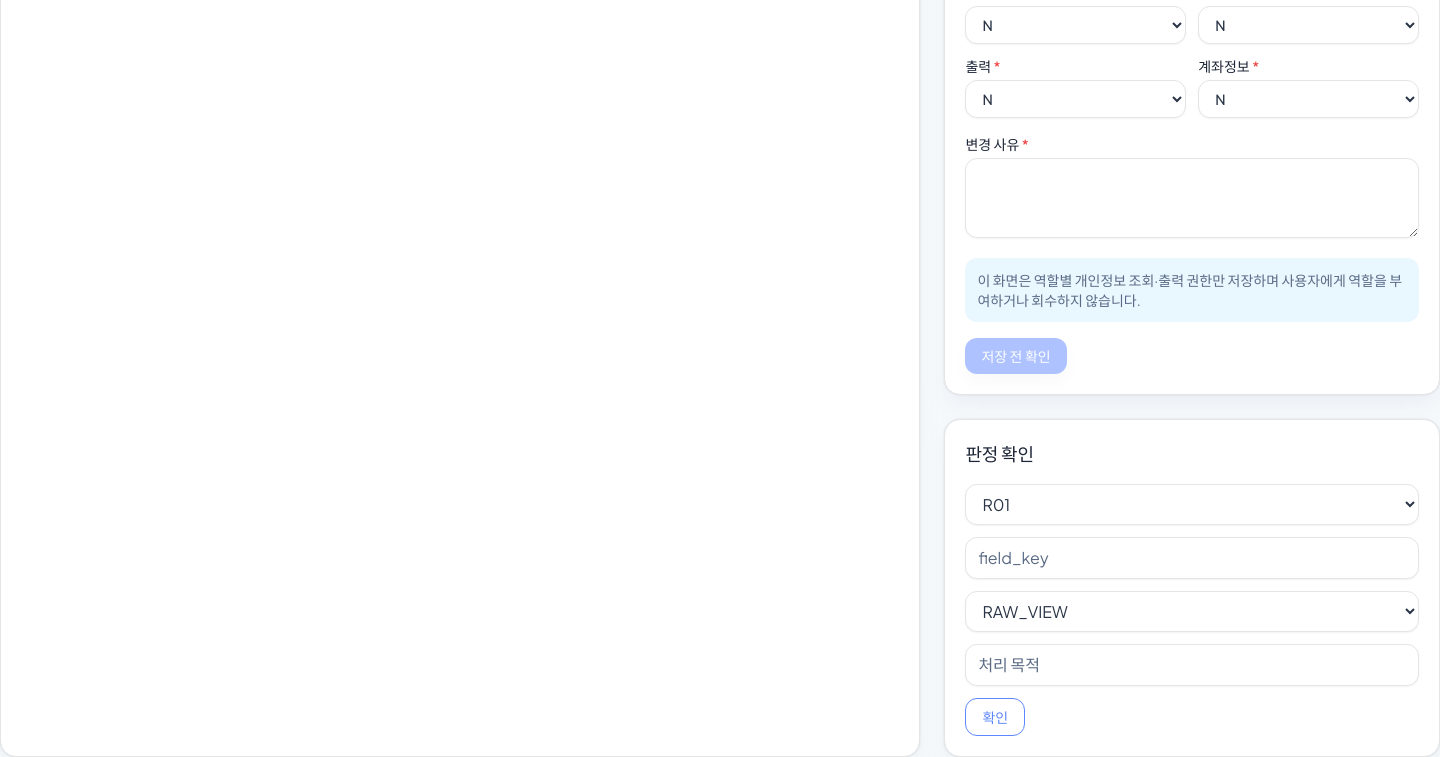
Scenario: PrivacyPermissionManagementPage › 판정 확인 영역은 미설정 차단 결과를 표시하고 원문값을 표시하지 않는다
(page scrolled)
Type "researcher_registration_no" into the field with test id "privacy-permission-evaluate-field-key-input" at (1192, 558), box [965,537,1419,579]
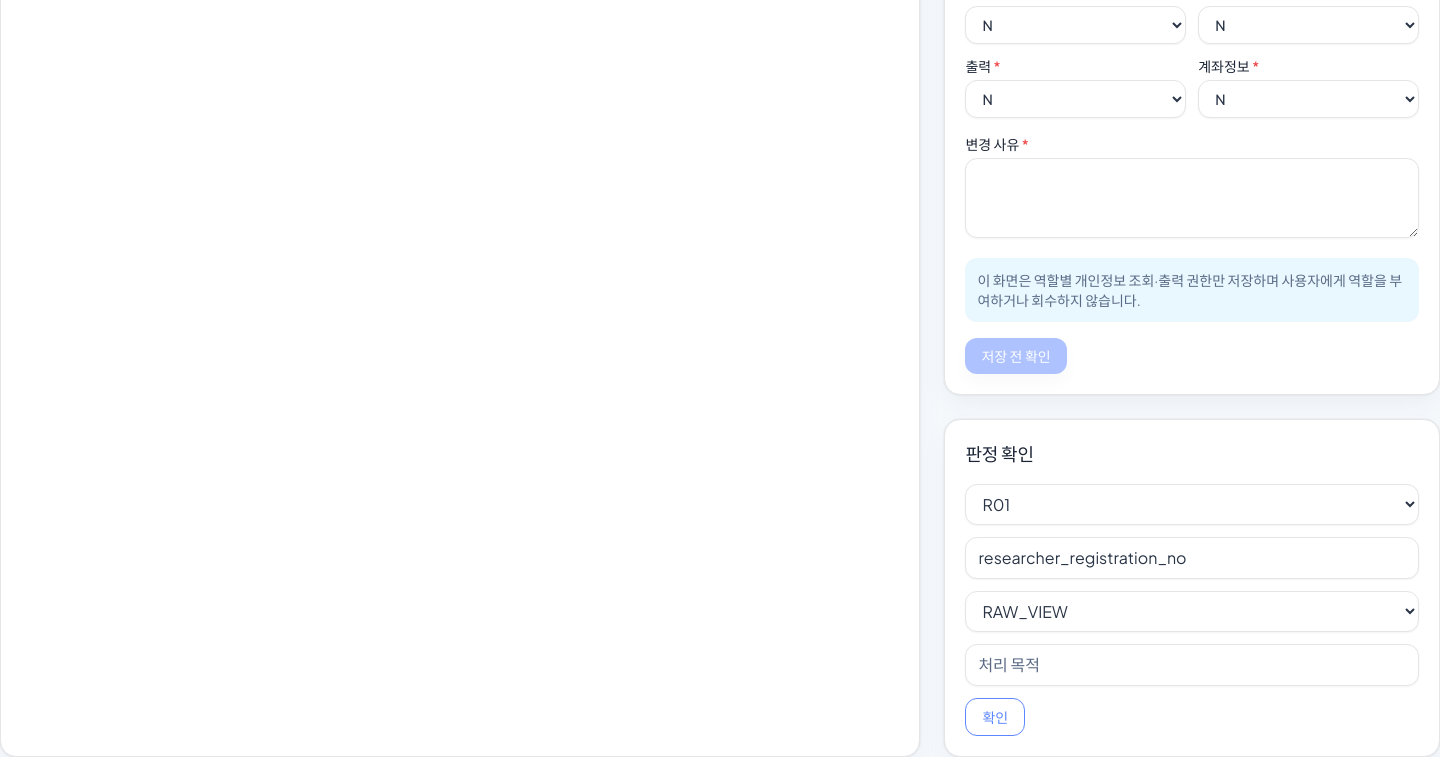
Type "업무 확인" into the field with test id "privacy-permission-evaluate-purpose-input" at (1192, 665), box [965,644,1419,686]
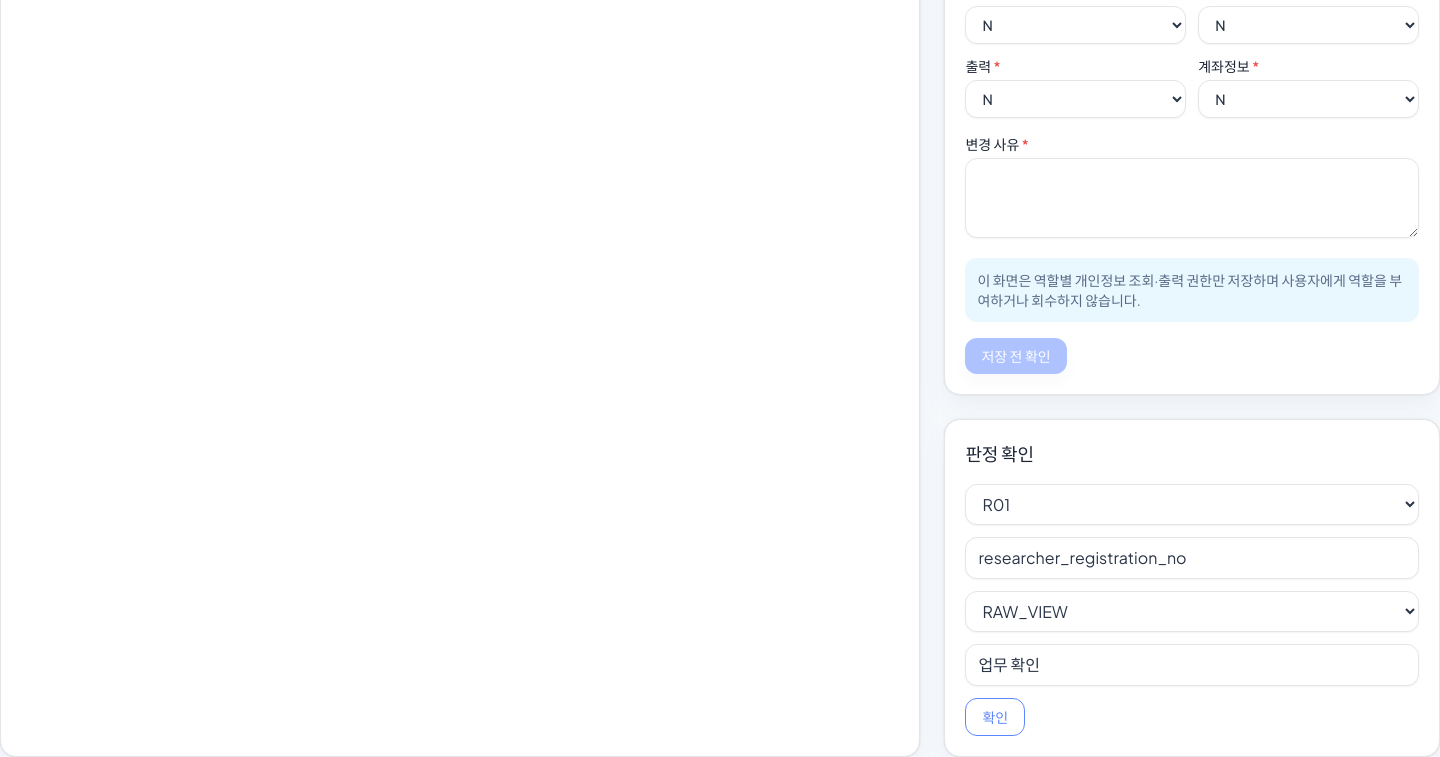
Click the button with test id "privacy-permission-evaluate-button" at (995, 717), box [965,698,1025,736]
(page scrolled)
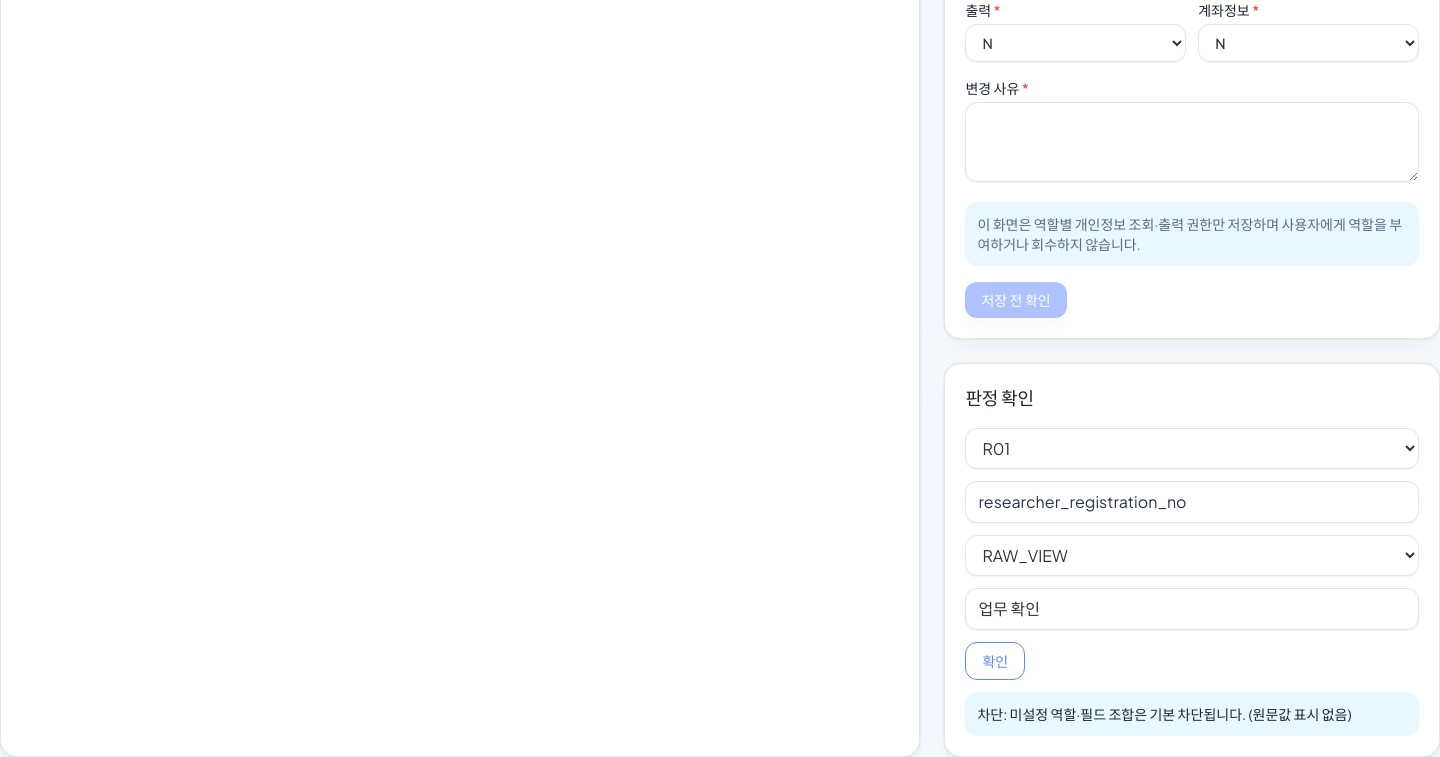
Result: the message with test id "privacy-permission-evaluate-result" shows "차단" at [977,705,1352,723]
